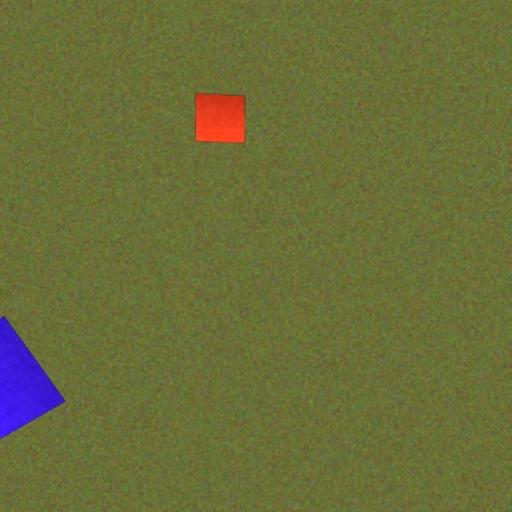BLUE_SQUARE: (0, 315, 67, 451)
RED_SQUARE: (194, 92, 246, 144)
